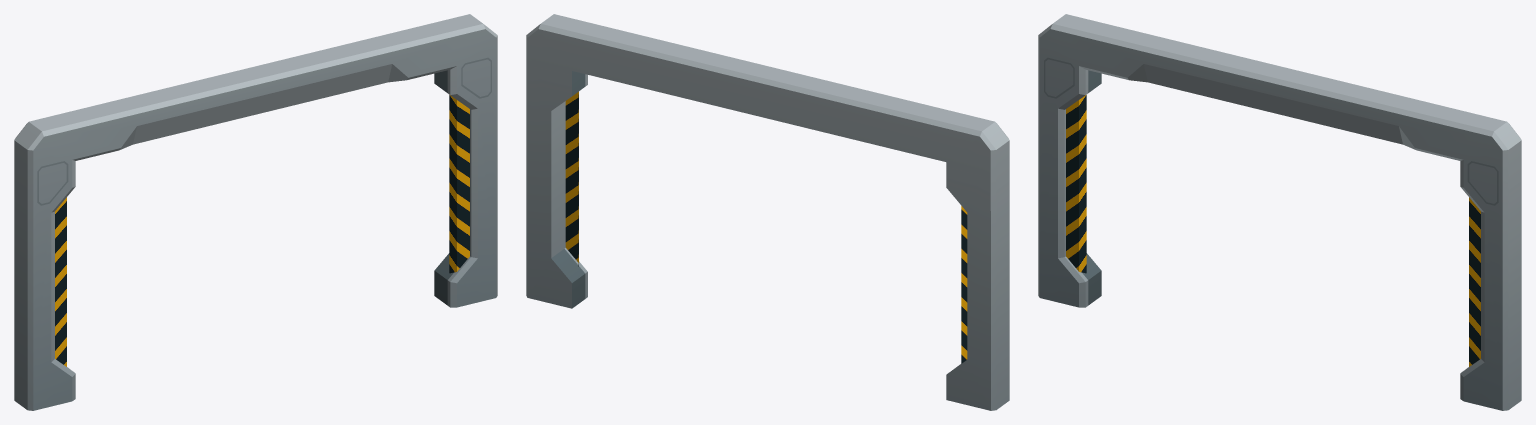
The model's file is Door_010.fbx.
3 views of the same model, side by side, from view 1: azimuth 30°, elevation 25°; view 2: azimuth 150°, elevation 25°; view 3: azimuth 330°, elevation 25° (orthographic).
Visible parts, largest first — view 1: Door_010; view 2: Door_010; view 3: Door_010.
Part boxes in pixels (<box>): Door_010: <box>14,14,497,410</box>; Door_010: <box>526,14,1009,410</box>; Door_010: <box>1038,14,1521,410</box>.
Bounding box in the file's own units: 600 × 38.58 × 336.
